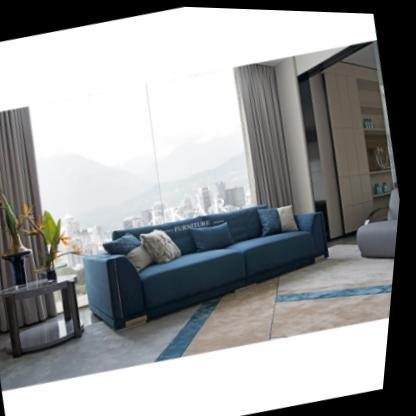Sofa: (77, 181, 347, 340)
